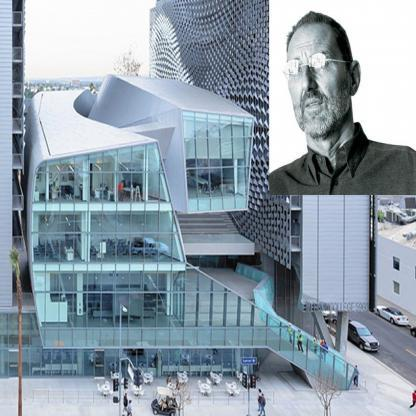Balcony: (182, 232, 254, 255)
Building Outline: (0, 73, 360, 391)
Door: (84, 350, 105, 377)
Facade: (0, 74, 361, 391)
Floor Slab: (32, 202, 172, 211), (33, 263, 185, 271)
Glass Wall: (31, 143, 355, 390), (183, 111, 253, 211)
Shop: (0, 313, 82, 377), (106, 348, 252, 377)
